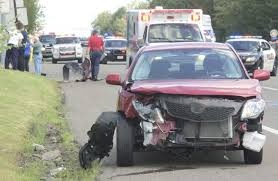Broken-glass: (130, 92, 168, 124)
Smashed: (120, 91, 256, 159)
